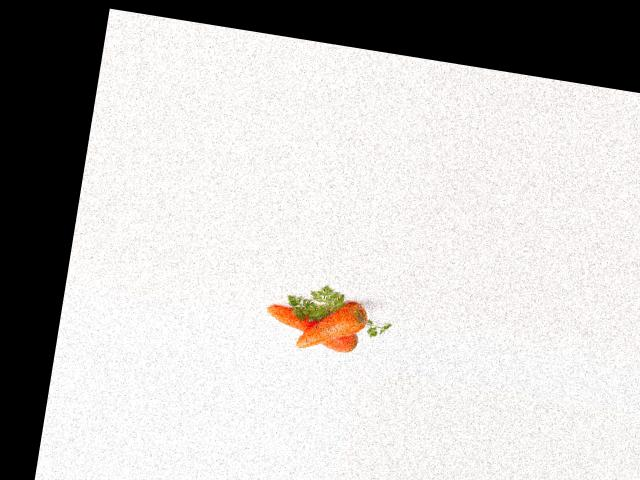carrot: (261, 303, 363, 355)
